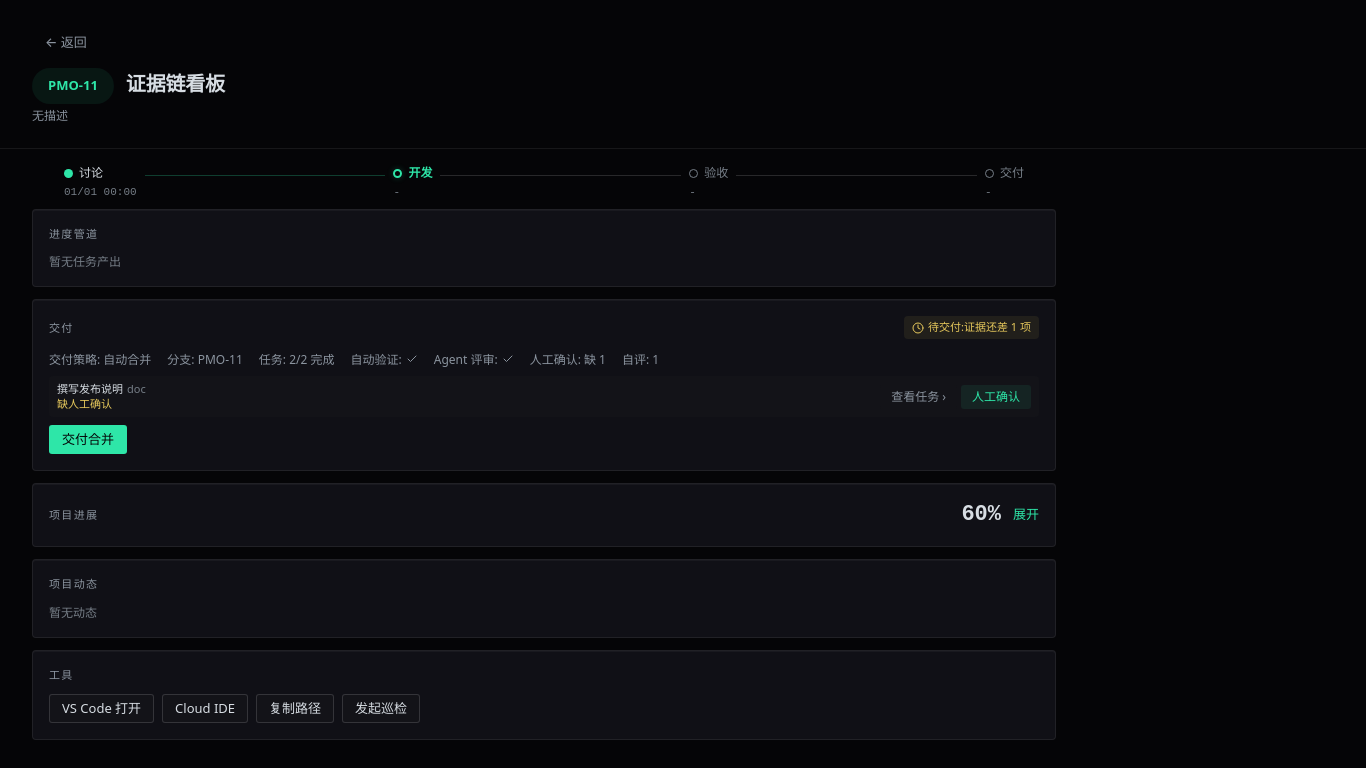
Scenario: PMO-b/F6-c: 交付区块 › 待验收徽标 + gap 行渲染 + 点「人工确认」调 reviewPassed 并刷新台账
The width and height of the screenshot is (1366, 768).
expect the text "待交付:证据还差 1 项" is shown: met, box [904, 316, 1039, 339]
expect the text "撰写发布说明" is shown: met, box [57, 381, 123, 396]
Step 1. Click the button "人工确认" → x=996, y=397, box [961, 385, 1031, 409]
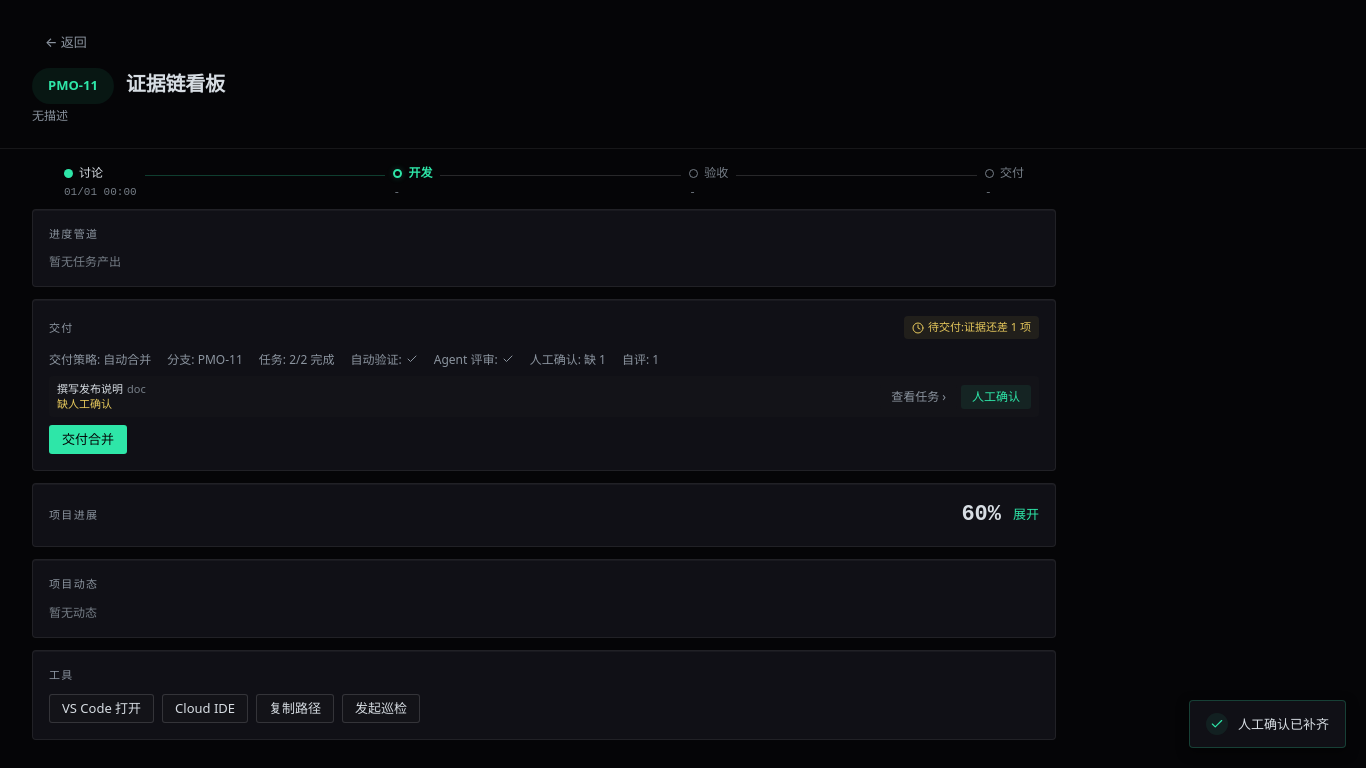
expect the text "人工确认已补齐" is shown: met, box [1238, 715, 1329, 733]
